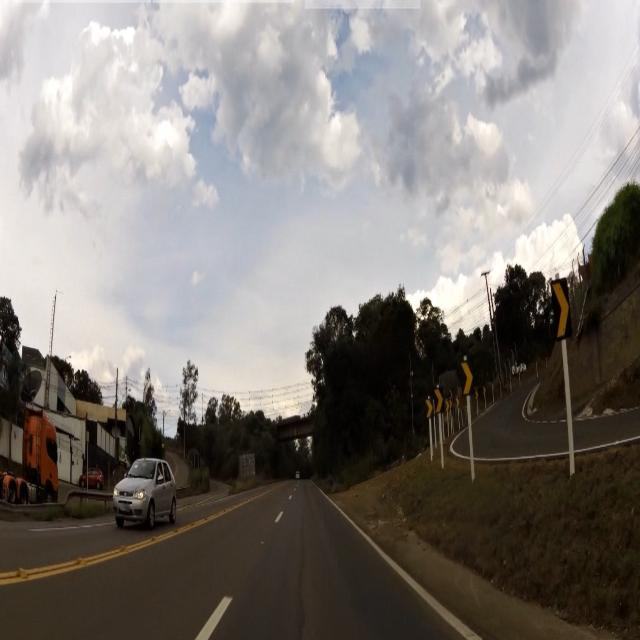Del: (550, 276, 576, 344), (460, 360, 480, 400), (434, 391, 445, 412)
